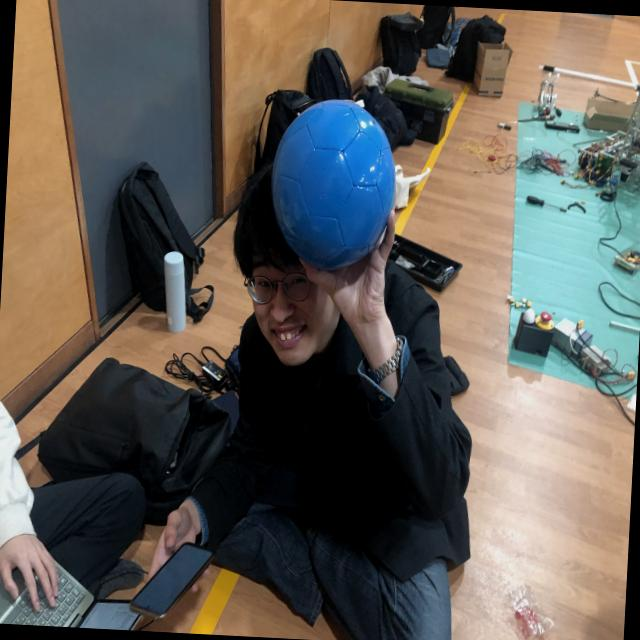blue_ball: (269, 91, 399, 277)
